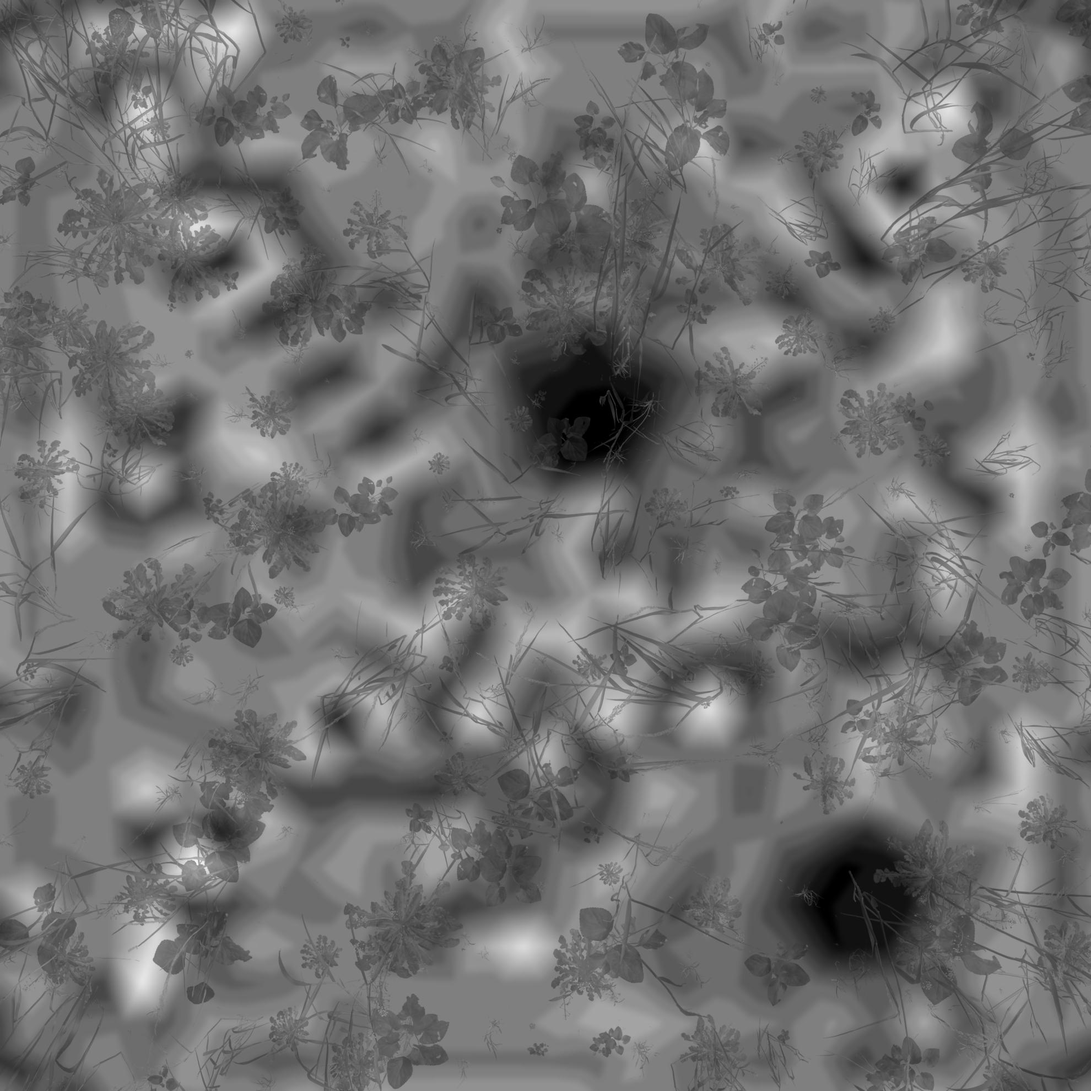landmine: (511, 333, 658, 491), (791, 829, 937, 971)
